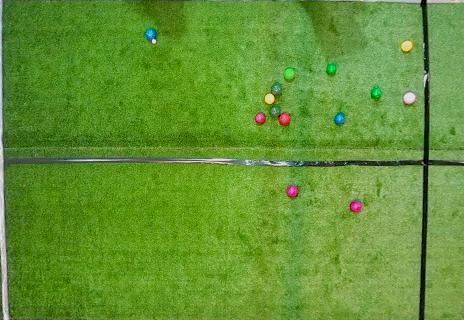blue: (334, 113, 345, 124), (146, 29, 156, 40)
green: (284, 67, 295, 80), (270, 105, 281, 117), (271, 84, 282, 95), (326, 64, 337, 75), (371, 88, 381, 99)
red: (403, 92, 416, 105), (278, 113, 291, 125), (286, 185, 299, 197), (350, 200, 362, 212), (255, 113, 266, 124)
vline: (419, 1, 464, 319), (0, 1, 13, 319)
white: (152, 39, 156, 44)
yellow: (401, 41, 413, 52), (265, 93, 275, 104)
